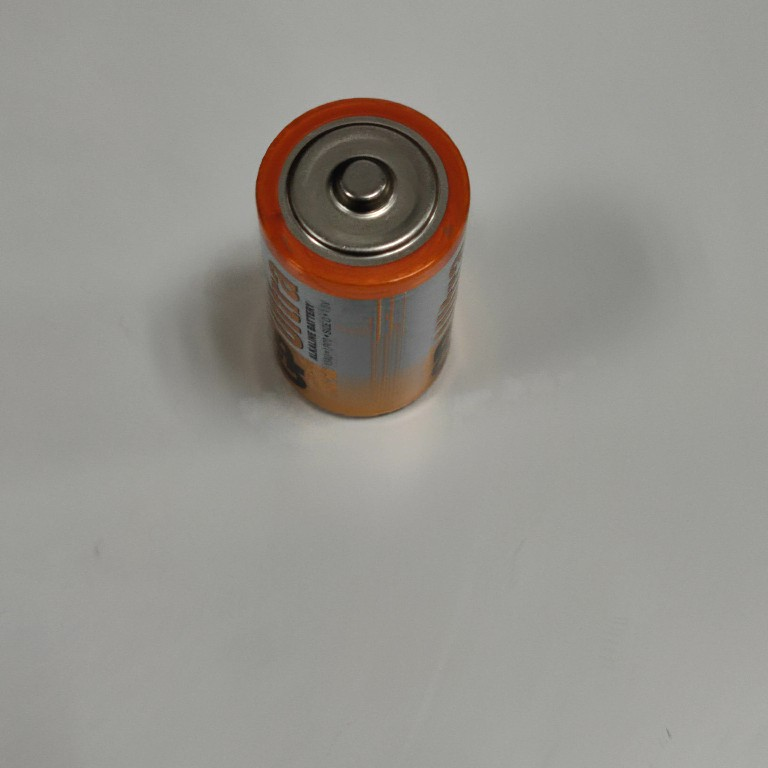charge: (247, 91, 477, 422)
